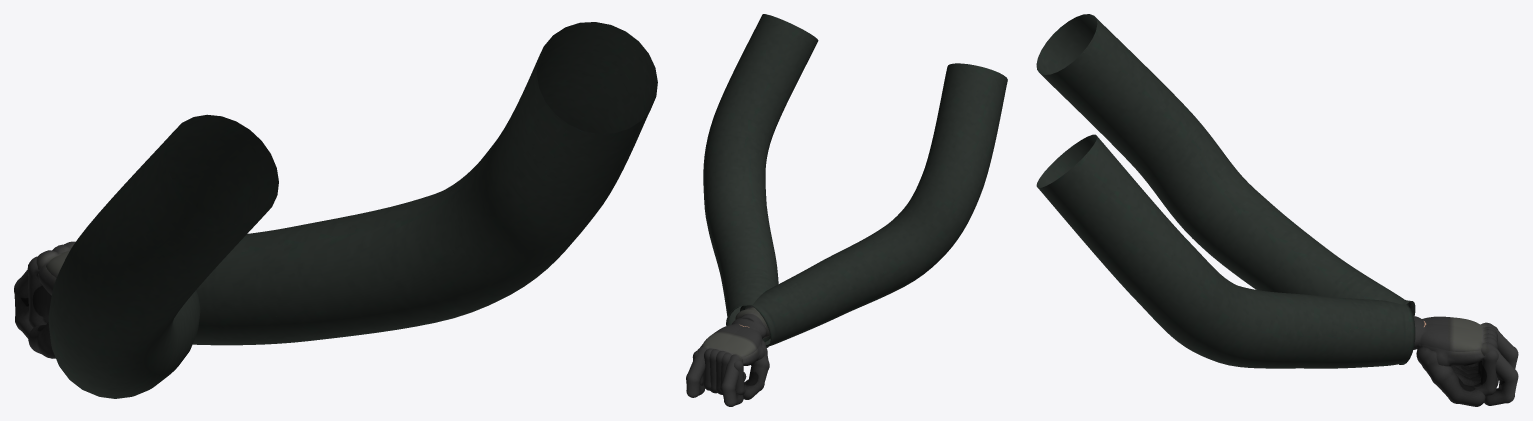
Rendered from hands.glb.
3 views of the same model, side by side, from view 1: azimuth 30°, elevation 25°; view 2: azimuth 150°, elevation 25°; view 3: azimuth 270°, elevation 25° (orthographic). The views are drawn at different scales.
Parts seen in each view (by area): view 1: SleeveR, SleeveL, HandR_glove, HandL_glove; view 2: SleeveL, SleeveR, HandR_glove, HandL_glove; view 3: SleeveR, SleeveL, HandL_glove, HandR_glove.
Part boxes in pixels (x1,y1,x2,y2): SleeveR: [192, 22, 657, 345]; SleeveL: [48, 114, 278, 398]; HandR_glove: [14, 241, 75, 358]; HandL_glove: [27, 244, 70, 327]; SleeveL: [740, 63, 1007, 347]; SleeveR: [703, 14, 818, 342]; HandR_glove: [692, 305, 769, 406]; HandL_glove: [686, 310, 770, 397]; SleeveR: [1036, 134, 1415, 368]; SleeveL: [1036, 14, 1415, 315]; HandL_glove: [1413, 315, 1518, 406]; HandR_glove: [1413, 316, 1518, 396].
Bounding box in the file's own units: 0.4516 × 0.4011 × 0.5583.
4 materials, 3 textured.
